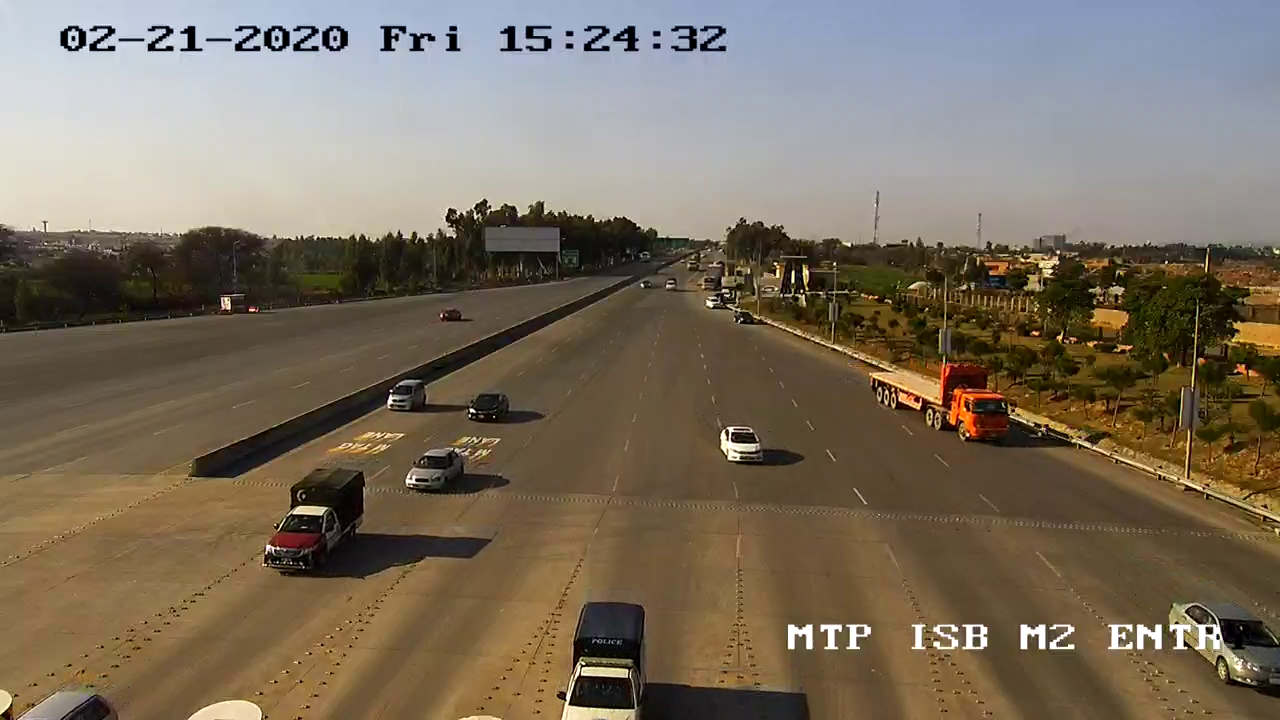f1: (254, 460, 374, 579), (401, 438, 471, 503)
f6: (864, 352, 1022, 449)
